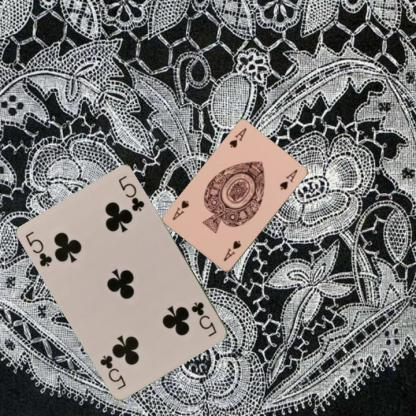5c: (23, 228, 54, 269), (189, 299, 218, 338)
As: (226, 125, 248, 149), (221, 238, 242, 263)
